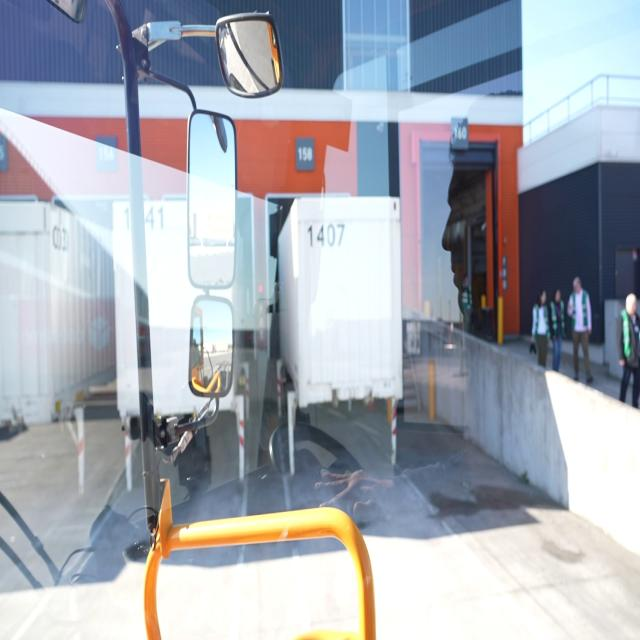Code: (303, 219, 348, 252)
